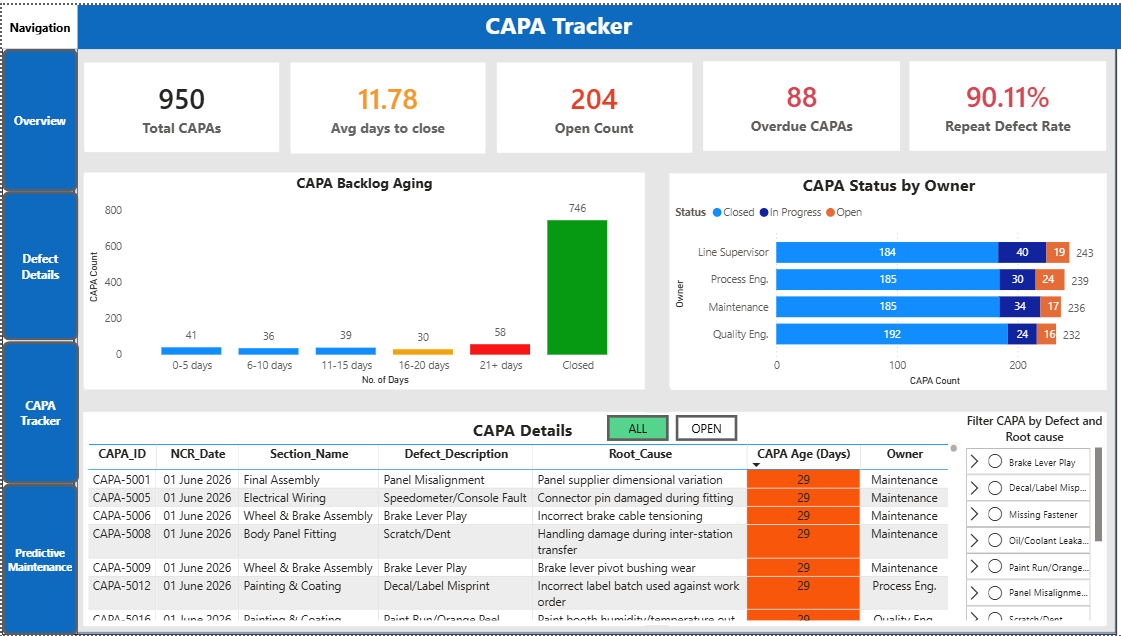

This screenshot's page, from the dashboard's own definition file:
{"tool":"powerbi","page":{"name":"CAPA Tracker","canvas":[1280,720],"ordinal":3},"visuals":[{"type":"image","box":[81.6,47.1,1192.9,672.9],"z":0},{"type":"cardVisual","fields":{"Data":["Fact_CAPA_NCR.CAPA Count"]},"box":[93.8,66.2,222.5,102.5],"z":1000},{"type":"cardVisual","title":"Total count card","fields":{"Data":["Avg(Fact_CAPA_NCR.CAPA Age (Days))"]},"box":[330,66.2,222.5,103.8],"z":2000},{"type":"cardVisual","fields":{"Data":["Fact_CAPA_NCR.Repeat Defect Rate"]},"box":[1037.5,63.8,225,102.5],"z":3000},{"type":"textbox","box":[0,0,1280,50],"z":4000},{"type":"shape","title":"navigation bar border","box":[0,0,86.7,720],"z":5000},{"type":"actionButton","title":"Overview Button","box":[0,50,86.7,163.3],"z":6000},{"type":"actionButton","title":"Defect Details Button","box":[0,213.3,87.3,170.7],"z":7000},{"type":"actionButton","title":"CAPA Tracker Button","box":[0,384,88,163],"z":8000},{"type":"actionButton","title":"Predictive MaintenanceButton","box":[0,546.7,86.7,173.3],"z":9000},{"type":"shape","box":[0,0,86.7,50],"z":12000},{"type":"cardVisual","fields":{"Data":["Fact_CAPA_NCR.Overdue CAPAs"]},"box":[801.2,63.8,225,102.5],"z":13000},{"type":"cardVisual","fields":{"Data":["Fact_CAPA_NCR.Open Count"]},"box":[565,66.2,222.9,102.9],"z":14000},{"type":"columnChart","title":"CAPA Backlog Aging","fields":{"Y":["Fact_CAPA_NCR.CAPA Count"],"Category":["Fact_CAPA_NCR.Aging Bucket"]},"box":[94,192,640,248],"z":15000},{"type":"barChart","title":"CAPA Status by Owner","fields":{"Category":["Fact_CAPA_NCR.Owner"],"Y":["Fact_CAPA_NCR.CAPA Count"],"Series":["Fact_CAPA_NCR.Status"]},"box":[763.8,192.5,498.8,247.5],"z":16000},{"type":"tableEx","title":"CAPA Details ","fields":{"Values":["Fact_CAPA_NCR.CAPA_ID","Fact_CAPA_NCR.NCR_Date","Dim_Station.Section_Name","Dim_DefectCode.Defect_Description","Fact_CAPA_NCR.Root_Cause","Fact_CAPA_NCR.CAPA Age (Days)","Fact_CAPA_NCR.Owner"]},"box":[92.9,465.7,1004.3,242.9],"z":17000},{"type":"listSlicer","title":"Filter CAPA by Defect and       Root cause","fields":{"Values":["Dim_DefectCode.Defect_Description","Fact_CAPA_NCR.Root_Cause"]},"box":[1097.1,465.7,165.7,242.9],"z":18000},{"type":"actionButton","title":"CAPA All Button","box":[691.7,468.6,70.4,29.6],"z":20000},{"type":"actionButton","title":"CAPA Open only Button","box":[769.4,468.6,70.4,29.6],"z":21000}]}

Visuals, with their boxes in screenshot pixels (x1, y1, x2, y2), scaled from the page's 1280x720 canvas onto the 1121x636 screenshot:
image: box(71, 42, 1116, 635)
cardVisual - Fact_CAPA_NCR.CAPA Count: box(82, 58, 277, 149)
"Total count card" cardVisual: box(289, 58, 484, 150)
cardVisual - Fact_CAPA_NCR.Repeat Defect Rate: box(909, 56, 1106, 147)
textbox: box(0, 0, 1120, 44)
"navigation bar border" shape: box(0, 0, 76, 635)
"Overview Button" actionButton: box(0, 44, 76, 188)
"Defect Details Button" actionButton: box(0, 188, 76, 339)
"CAPA Tracker Button" actionButton: box(0, 339, 77, 483)
"Predictive MaintenanceButton" actionButton: box(0, 483, 76, 635)
shape: box(0, 0, 76, 44)
cardVisual - Fact_CAPA_NCR.Overdue CAPAs: box(702, 56, 899, 147)
cardVisual - Fact_CAPA_NCR.Open Count: box(495, 58, 690, 149)
"CAPA Backlog Aging" columnChart: box(82, 170, 643, 389)
"CAPA Status by Owner" barChart: box(669, 170, 1106, 389)
"CAPA Details " tableEx: box(81, 411, 961, 626)
"Filter CAPA by Defect and       Root cause" listSlicer: box(961, 411, 1106, 626)
"CAPA All Button" actionButton: box(606, 414, 667, 440)
"CAPA Open only Button" actionButton: box(674, 414, 735, 440)
